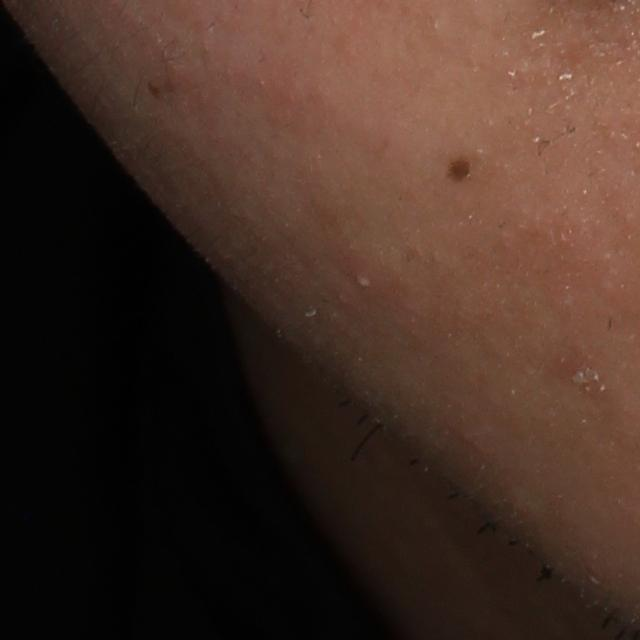nevus: (445, 155, 472, 184)
